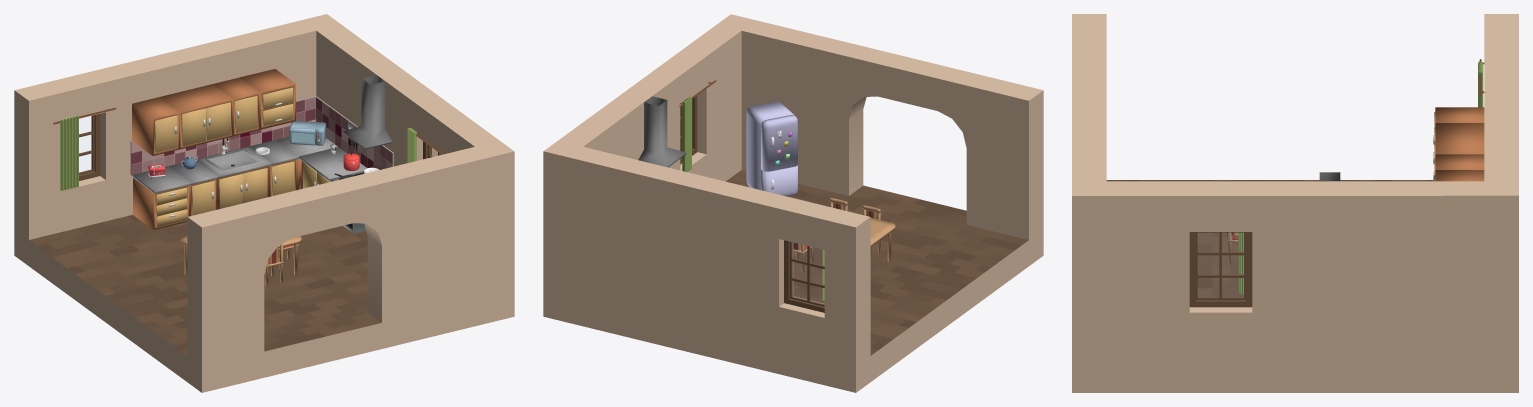
File: ground.gltf
The picture shows the model from 3 angles, left to right: view 1: azimuth 30°, elevation 25°; view 2: azimuth 150°, elevation 25°; view 3: azimuth 270°, elevation 25°; orthographic projection. The views are drawn at different scales.
Visible parts, largest first — view 1: Wall#1_5, Floor_2, Tile_4, Sink_65, ExtractorHood_101, Commode_75, 1Door.Upper.L_80, 2Door.Upper_78, Curtain#2.1_0, Horizontal.Upper_72, 2Door_79, 1Door.Upper_92 (+15 smaller); view 2: Wall#1_5, Floor_2, Fridge.Door.U_43, ExtractorHood_101, Fridge_73, Fridge.Door.L_45, Curtain#1.1_12, Window#2.Wood_7, Window#2_8, Table_20; view 3: Wall#1_5, Floor_2, 2Door.Upper_78, Window#1_11, Window#1.Wood_10, 1Door.Upper.L_80, 1Door.Upper_92, Horizontal.Upper_72.
Boxes of the visible parts, <box> form: Wall#1_5: <box>14,14,514,366</box>; Floor_2: <box>14,214,514,392</box>; Tile_4: <box>130,96,393,175</box>; Sink_65: <box>195,138,271,209</box>; ExtractorHood_101: <box>342,75,391,149</box>; Commode_75: <box>132,166,190,229</box>; 1Door.Upper.L_80: <box>132,97,179,155</box>; 2Door.Upper_78: <box>159,84,232,149</box>; Curtain#2.1_0: <box>60,115,78,191</box>; Horizontal.Upper_72: <box>239,69,295,129</box>; 2Door_79: <box>299,147,366,188</box>; 1Door.Upper_92: <box>213,77,259,136</box>; Wall#1_5: <box>543,14,1043,366</box>; Floor_2: <box>543,170,1043,392</box>; Fridge.Door.U_43: <box>761,115,797,171</box>; ExtractorHood_101: <box>638,96,686,167</box>; Fridge_73: <box>746,101,794,189</box>; Fridge.Door.L_45: <box>761,165,797,196</box>; Curtain#1.1_12: <box>682,97,691,172</box>; Window#2.Wood_7: <box>790,241,824,306</box>; Window#2_8: <box>784,240,824,312</box>; Table_20: <box>870,217,895,261</box>; Wall#1_5: <box>1072,14,1518,361</box>; Floor_2: <box>1072,180,1518,392</box>; 2Door.Upper_78: <box>1435,123,1484,154</box>; Window#1_11: <box>1189,232,1252,307</box>; Window#1.Wood_10: <box>1195,232,1245,300</box>; 1Door.Upper.L_80: <box>1435,107,1484,122</box>; 1Door.Upper_92: <box>1435,154,1484,169</box>; Horizontal.Upper_72: <box>1435,170,1484,181</box>.
Size of the model in its own units: 7.76 by 3.92 by 8.06.
33 materials, 25 textured.
